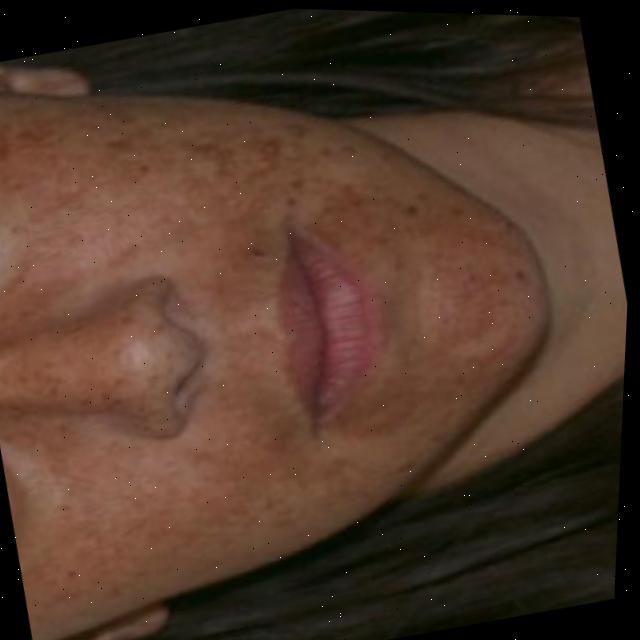Melasma: (0, 32, 401, 326), (0, 353, 378, 630), (336, 162, 576, 477), (0, 289, 178, 462)
